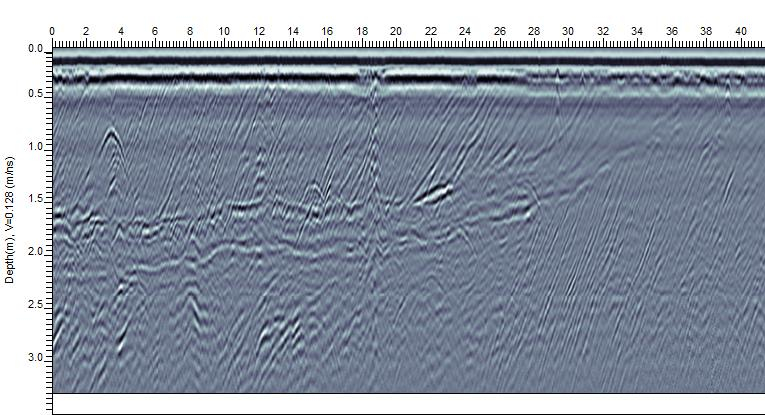hyperbola: (90, 127, 133, 167)
